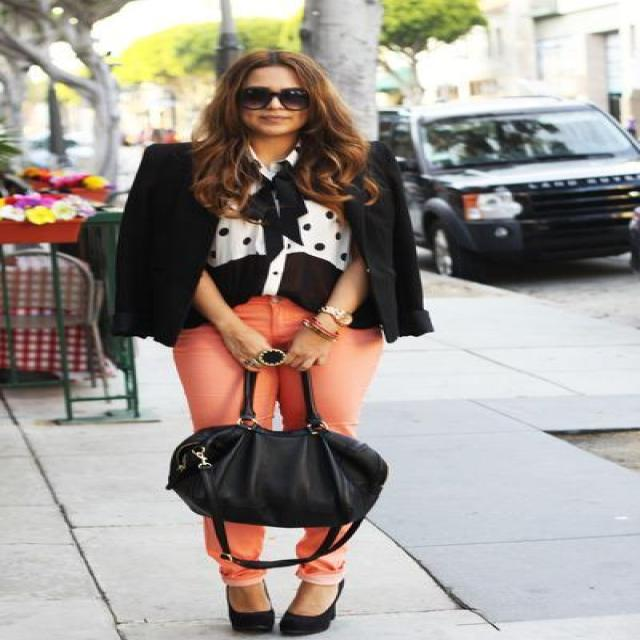bag: (166, 376, 388, 568)
jacket: (115, 143, 450, 347)
pants: (173, 294, 381, 593)
shirt: (195, 166, 347, 319)
shoe: (227, 602, 325, 639)
sunglass: (261, 88, 320, 114)
